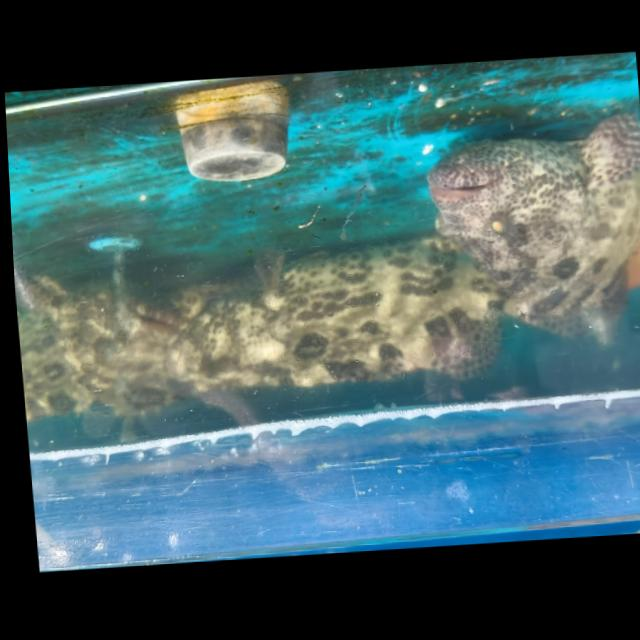Groupers: (413, 113, 640, 326), (14, 259, 192, 420)
